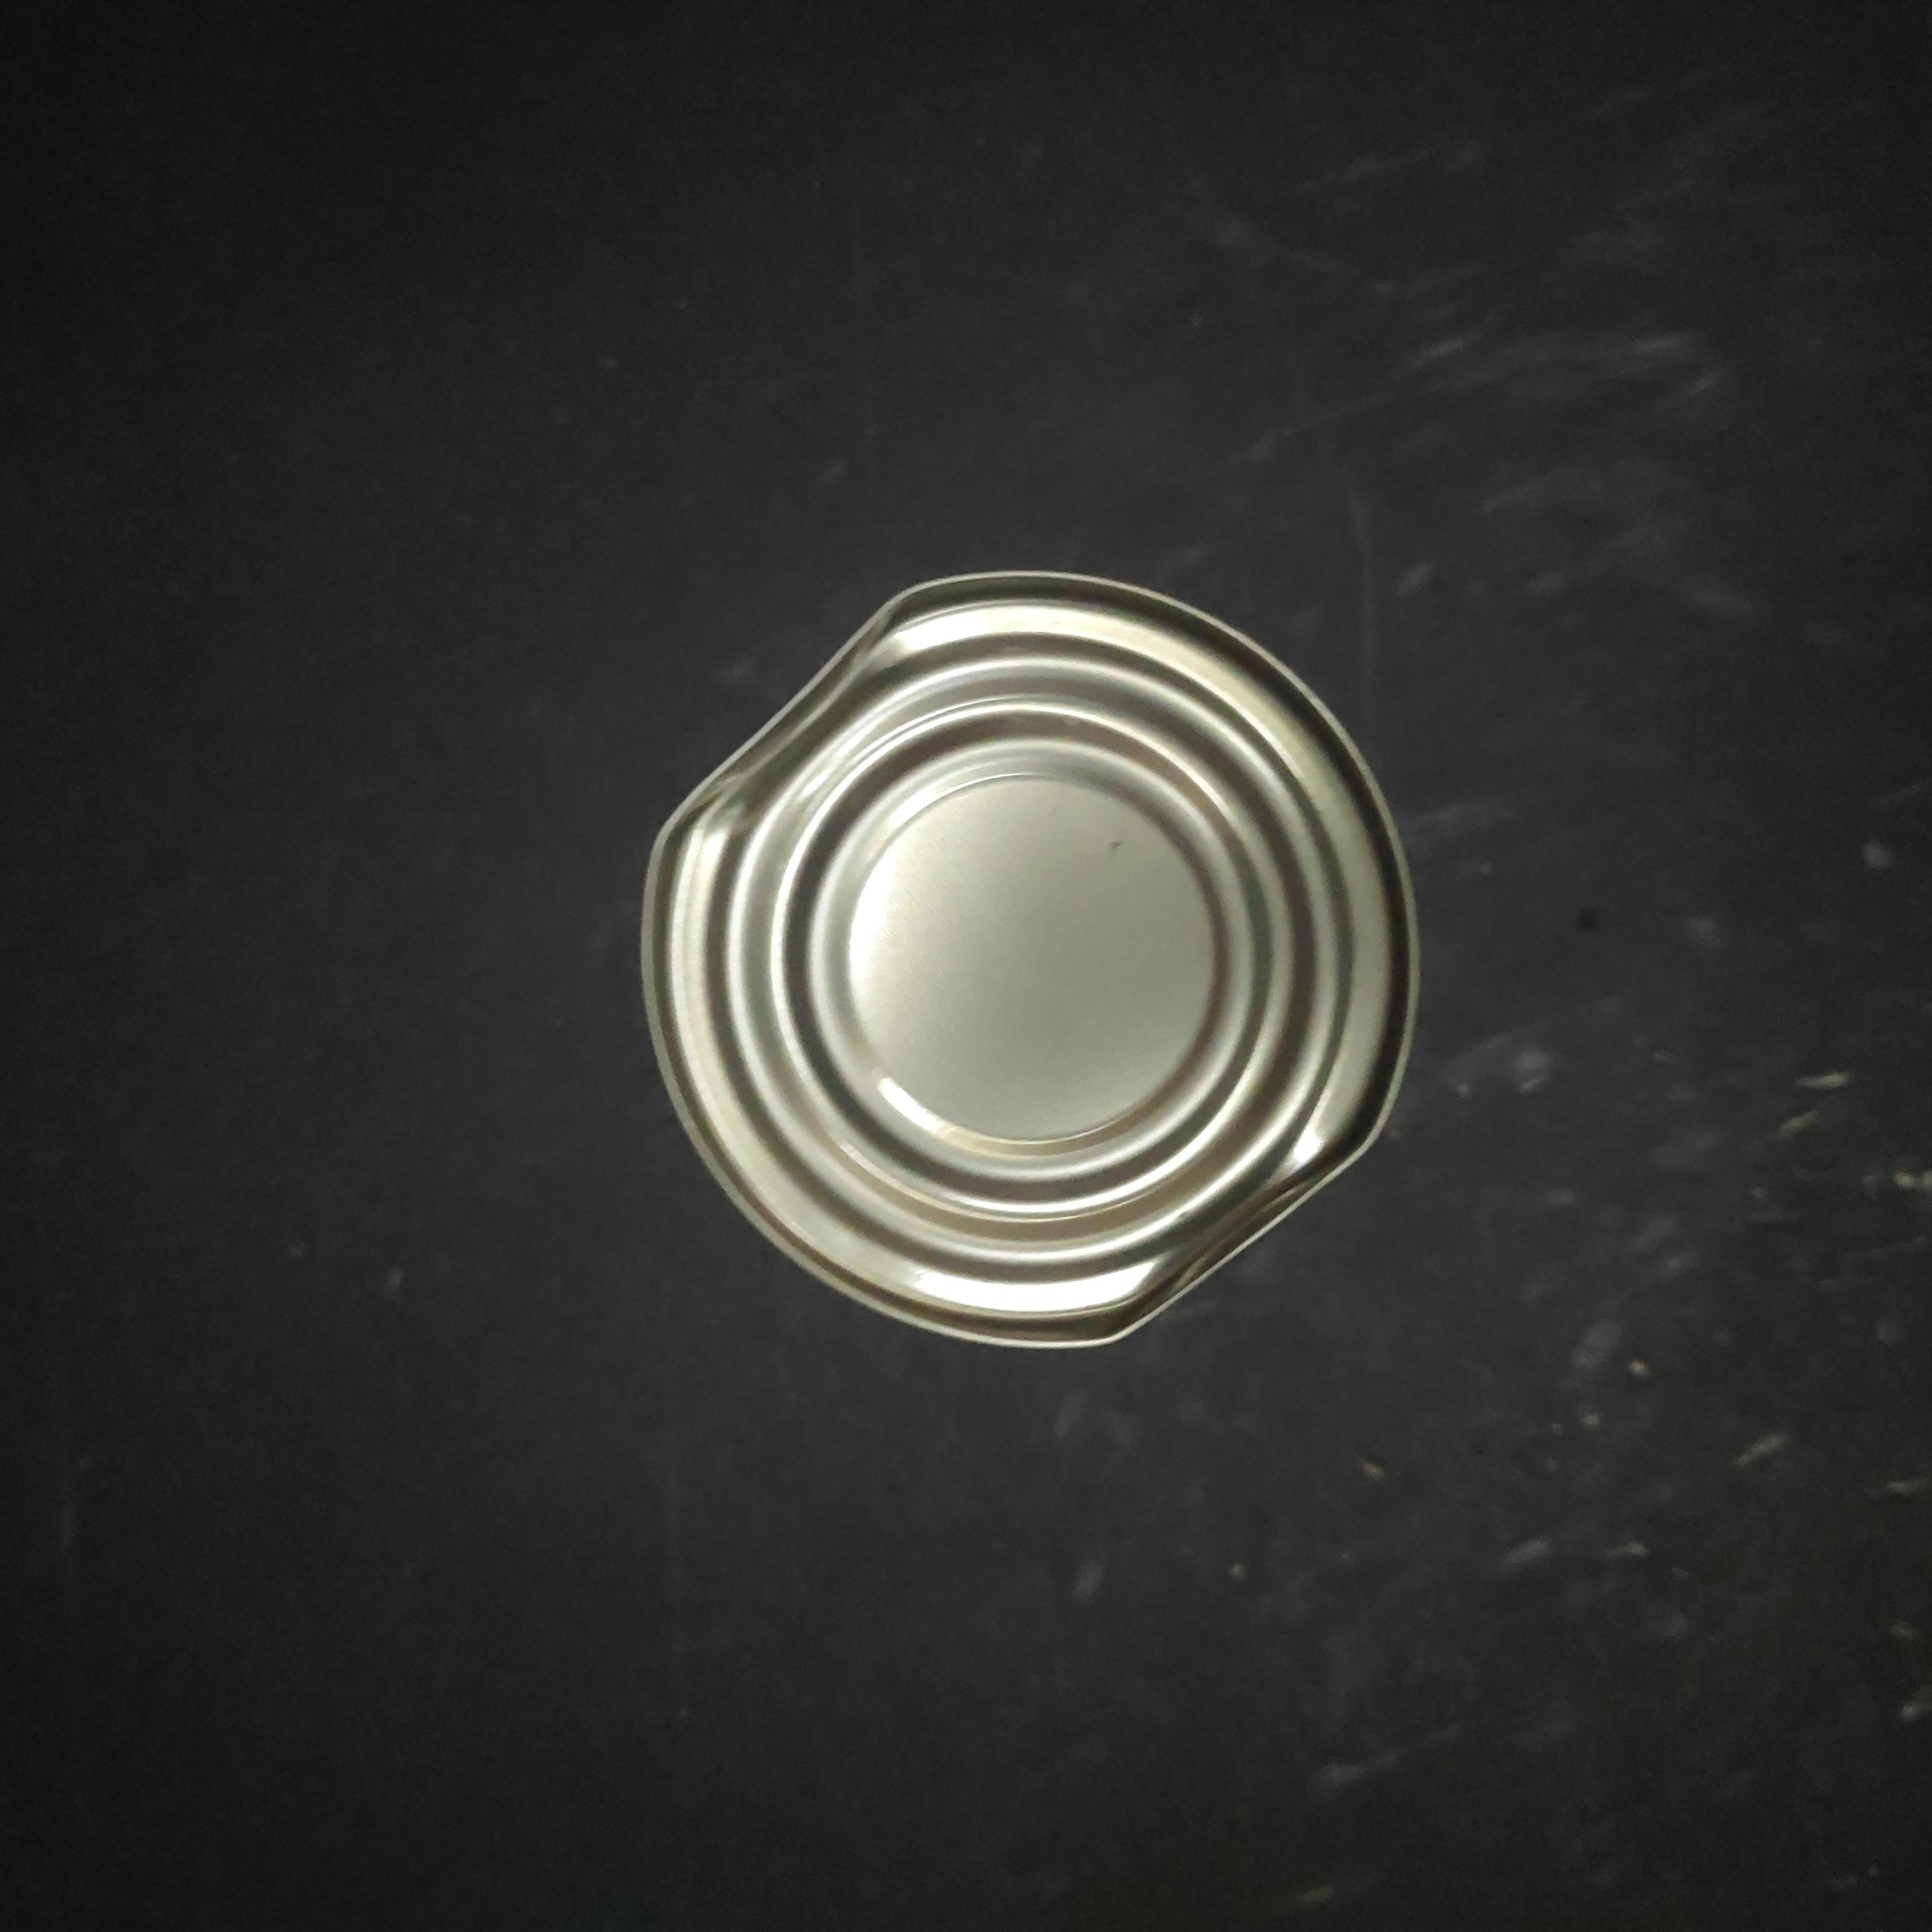Minor Defect: (499, 559, 1304, 1376)
